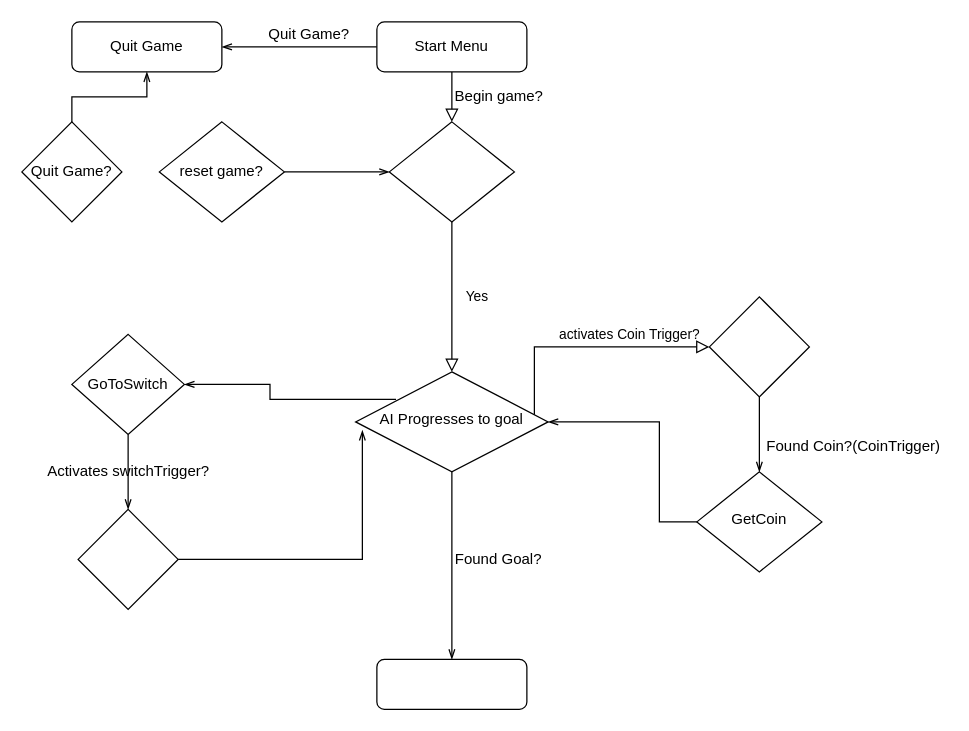
This 969x731 diagram has some shape labels left out. Here are the shapes that lost their labels. From the top down, the centre of each, then its label:
the point at 451,171: Load scene
the point at 758,346: Go To Coin
the point at 127,558: pushSwitch
the point at 451,683: Win Game
